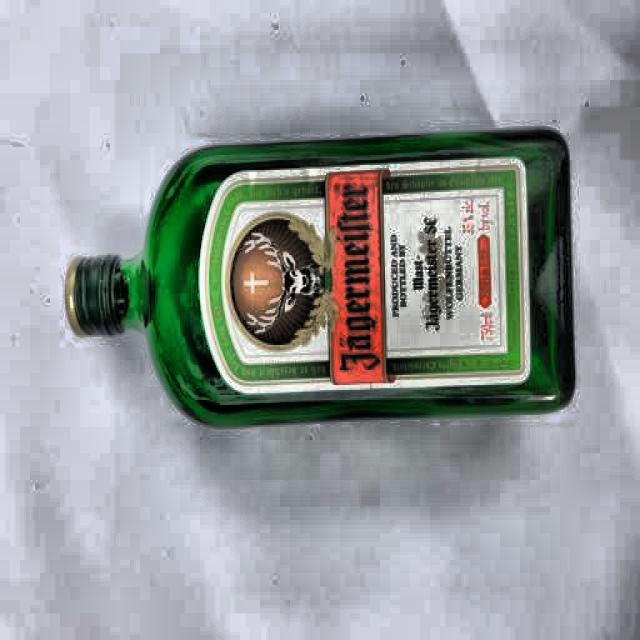glass: (61, 124, 578, 428)
